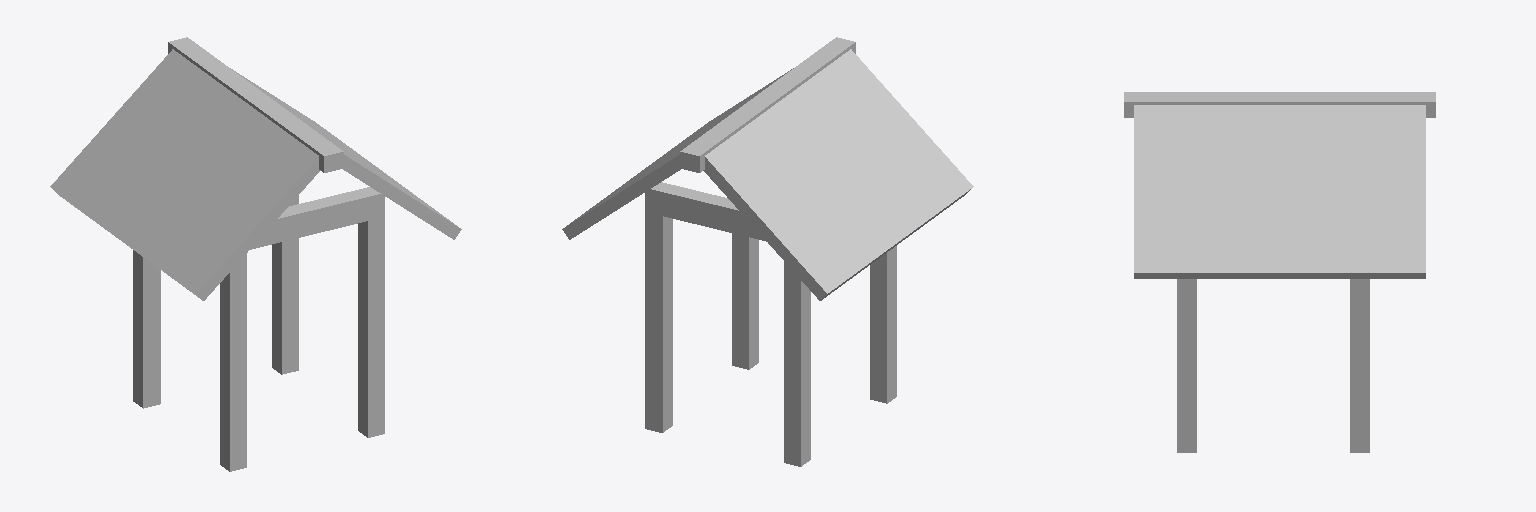
File: shed.obj
3 views of the same model, side by side, from view 1: azimuth 30°, elevation 25°; view 2: azimuth 150°, elevation 25°; view 3: azimuth 270°, elevation 25° (orthographic).
Parts seen in each view (by area): view 1: roof, leg, center, truss; view 2: roof, leg, center, truss; view 3: roof, leg, center.
Part boxes in pixels (x1,y1,x2,y2): roof: (50,49,461,300); leg: (133,195,384,471); center: (168,37,343,172); truss: (250,187,384,249); roof: (562,49,973,300); leg: (645,212,896,466); center: (680,37,855,172); truss: (645,182,766,241); roof: (1134,105,1425,278); leg: (1177,279,1369,452); center: (1124,92,1435,117).
Size of the model in its own units: 1.44 by 1.65 by 1.47.